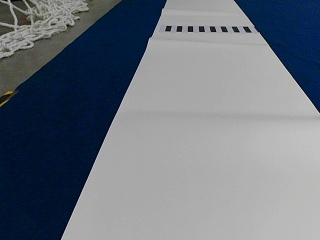crosswalk: (163, 24, 251, 33)
